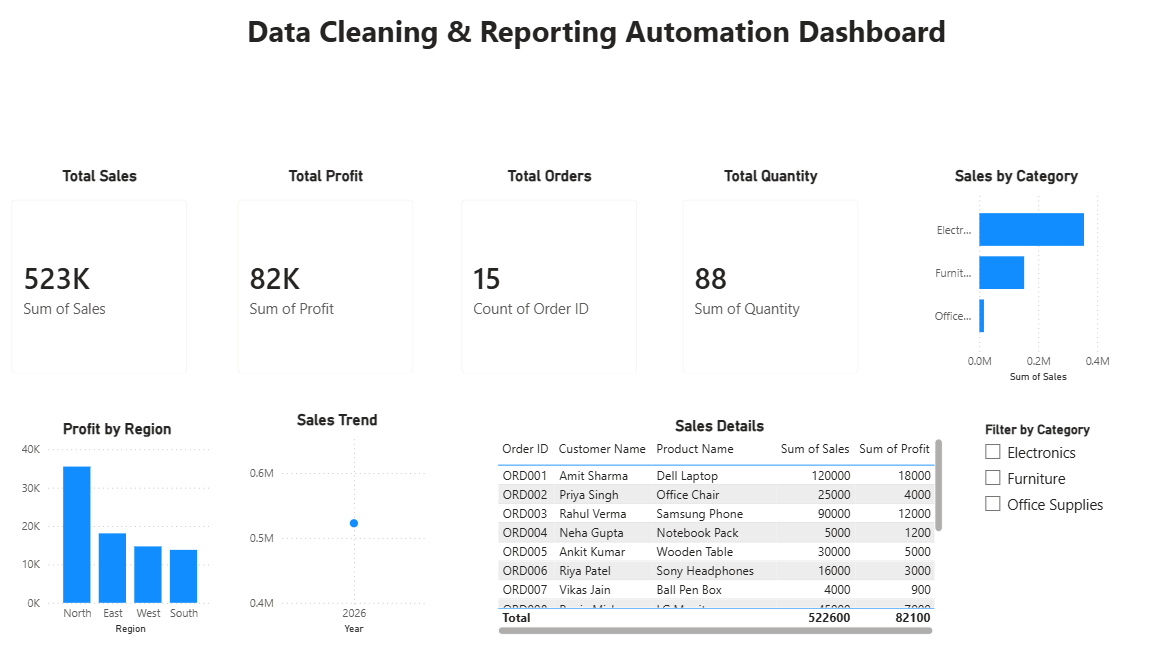

The dashboard page shown, as its layout file describes it:
{"tool":"powerbi","page":{"name":"Page 1","canvas":[1280,720],"ordinal":0},"visuals":[{"type":"cardVisual","title":"Total Sales","fields":{"Data":["Sum(SalesData.Sales)"]},"box":[0,190.7,227.8,244.3],"z":0},{"type":"cardVisual","title":"Total Profit","fields":{"Data":["Sum(SalesData.Profit)"]},"box":[248.4,190.7,227.8,244.3],"z":1},{"type":"cardVisual","title":"Total Orders","fields":{"Data":["CountNonNull(SalesData.Order ID)"]},"box":[494,190.7,227.8,244.3],"z":2},{"type":"cardVisual","title":"Total  Quantity","fields":{"Data":["Sum(SalesData.Quantity)"]},"box":[736.9,190.7,227.8,244.3],"z":3},{"type":"clusteredBarChart","title":"Sales by Category","fields":{"Category":["SalesData.Category"],"Y":["Sum(SalesData.Sales)"]},"box":[1012.7,190.7,215.4,241.5],"z":4},{"type":"clusteredColumnChart","title":"Profit by Region","fields":{"Category":["SalesData.Region"],"Y":["Sum(SalesData.Profit)"]},"box":[23.3,467.9,219.6,241.5],"z":5},{"type":"lineChart","title":"Sales Trend","fields":{"Category":["SalesData.Order Date.Variation.Date Hierarchy.Year","SalesData.Order Date.Variation.Date Hierarchy.Quarter","SalesData.Order Date.Variation.Date Hierarchy.Month","SalesData.Order Date.Variation.Date Hierarchy.Day"],"Y":["Sum(SalesData.Sales)"]},"box":[273.1,458.3,203.1,251.1],"z":6},{"type":"slicer","fields":{"Values":["SalesData.Category"]},"box":[1073.1,465.2,171.5,251.1],"z":7},{"type":"tableEx","title":"Sales Details","fields":{"Values":["SalesData.Order ID","SalesData.Customer Name","SalesData.Product Name","Sum(SalesData.Sales)","Sum(SalesData.Profit)"]},"box":[544.8,465.2,499.5,244.3],"z":8},{"type":"textbox","box":[227.8,15.1,863.1,56.3],"z":9}]}

Visuals, with their boxes in screenshot pixels (x1, y1, x2, y2), scaled from the page's 1280x720 canvas onto the 1160x647 screenshot:
"Total Sales" cardVisual: <region>0, 171, 206, 391</region>
"Total Profit" cardVisual: <region>225, 171, 432, 391</region>
"Total Orders" cardVisual: <region>448, 171, 654, 391</region>
"Total  Quantity" cardVisual: <region>668, 171, 874, 391</region>
"Sales by Category" clusteredBarChart: <region>918, 171, 1113, 388</region>
"Profit by Region" clusteredColumnChart: <region>21, 420, 220, 637</region>
"Sales Trend" lineChart: <region>247, 412, 432, 637</region>
slicer - SalesData.Category: <region>972, 418, 1128, 644</region>
"Sales Details" tableEx: <region>494, 418, 946, 638</region>
textbox: <region>206, 14, 989, 64</region>
